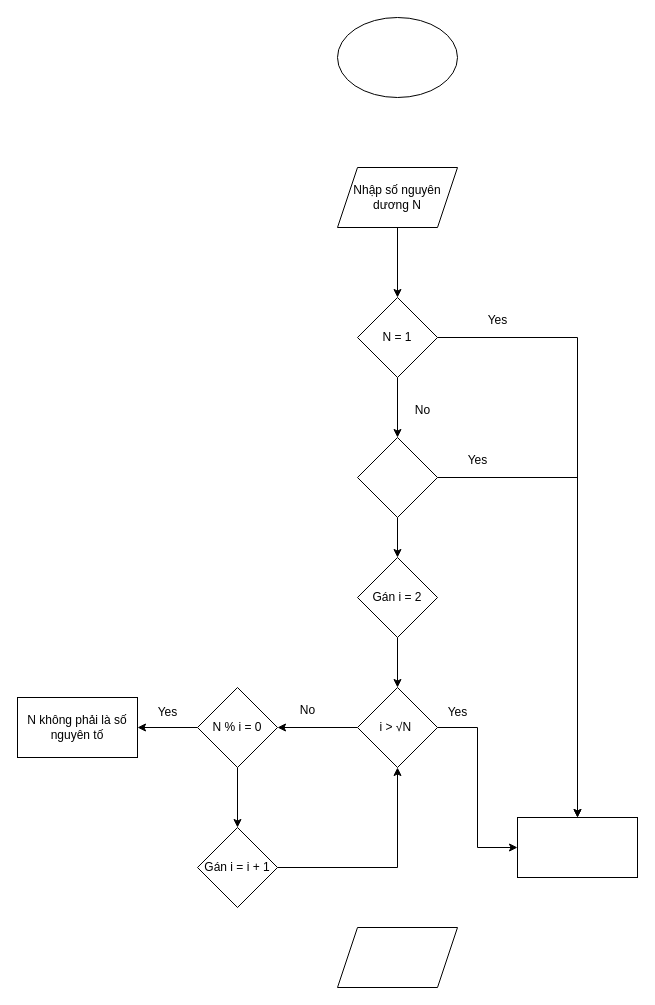
The diagram is 655 pixels wide and 1005 high, and some of its shapes have lost their labels. The box of each missing label's shape, as (x1, y1, x2, y2) in pixels:
Bắt đầu: (336, 16, 458, 98)
Hiển thị kết quả: (336, 926, 458, 988)
n < 4: (356, 436, 438, 518)
N là số nguyên tố: (516, 816, 638, 878)
